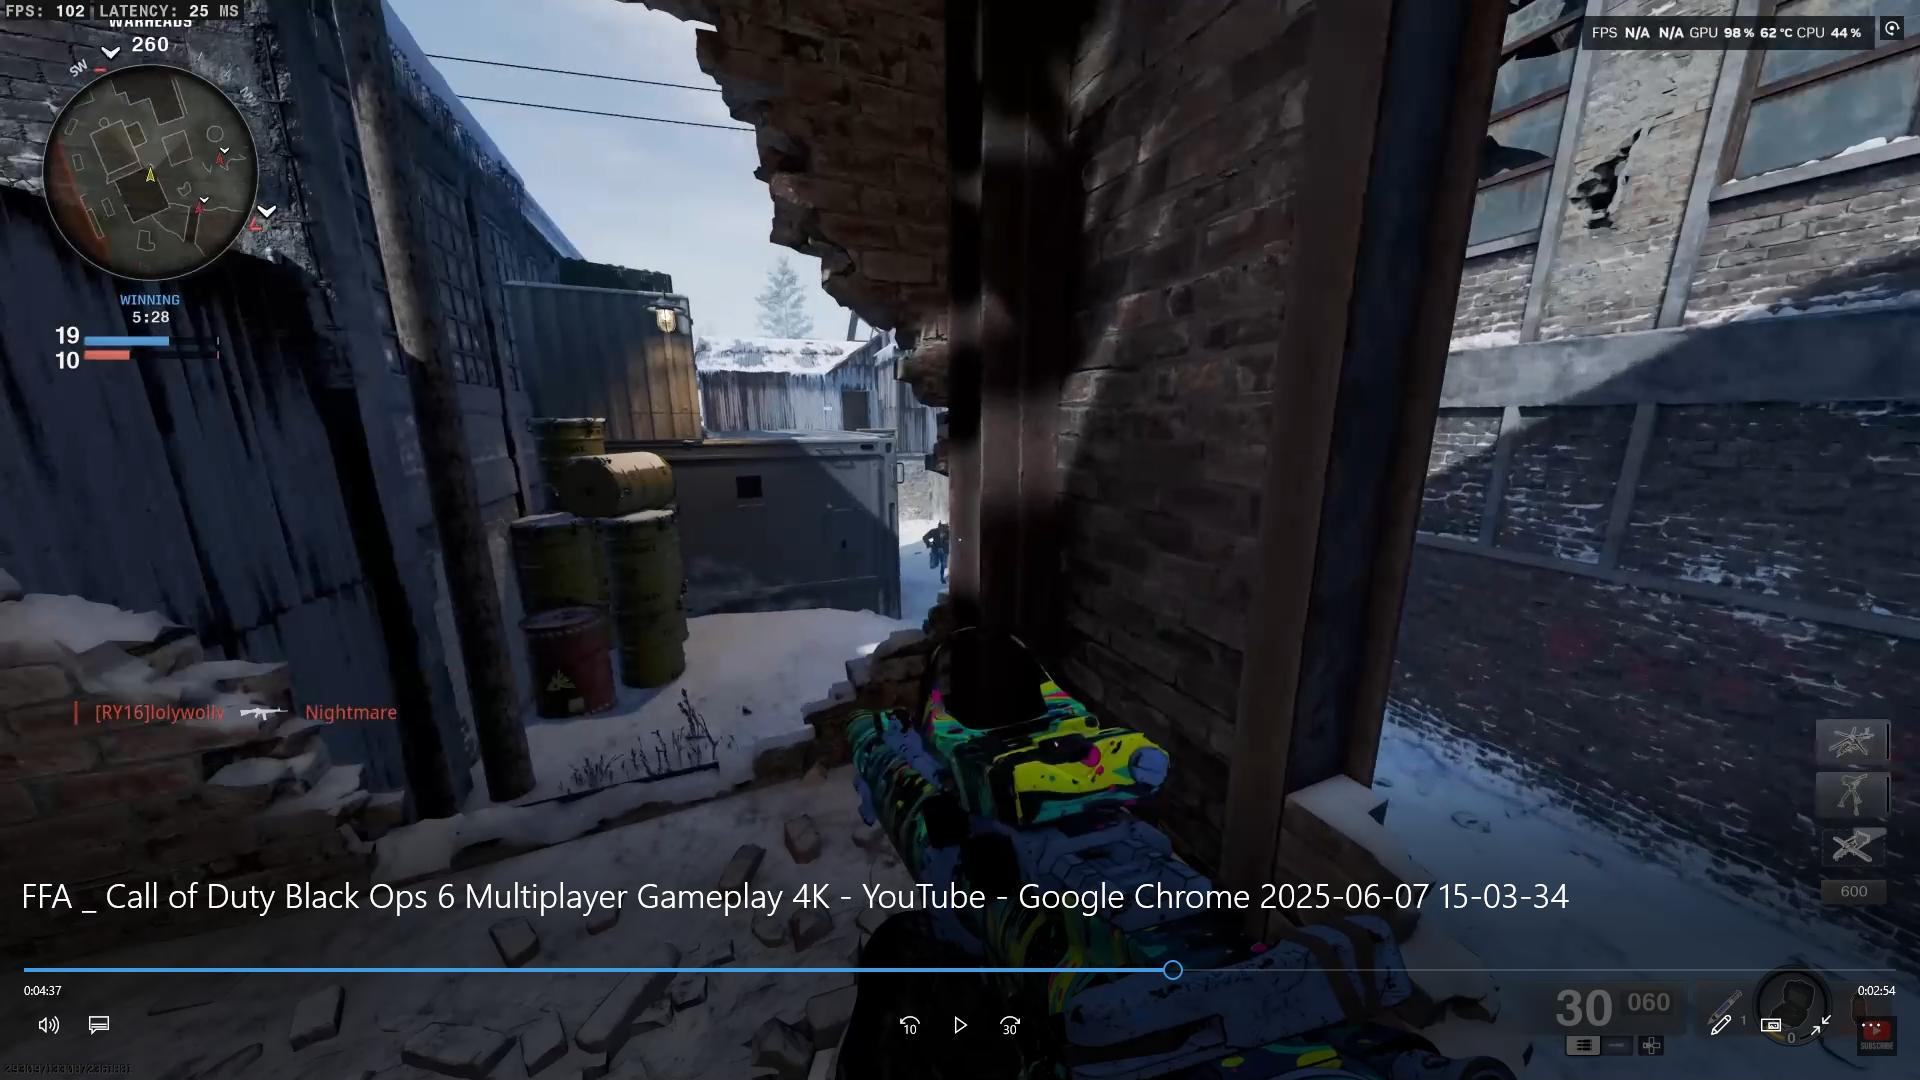Enemy: (916, 512, 949, 578)
